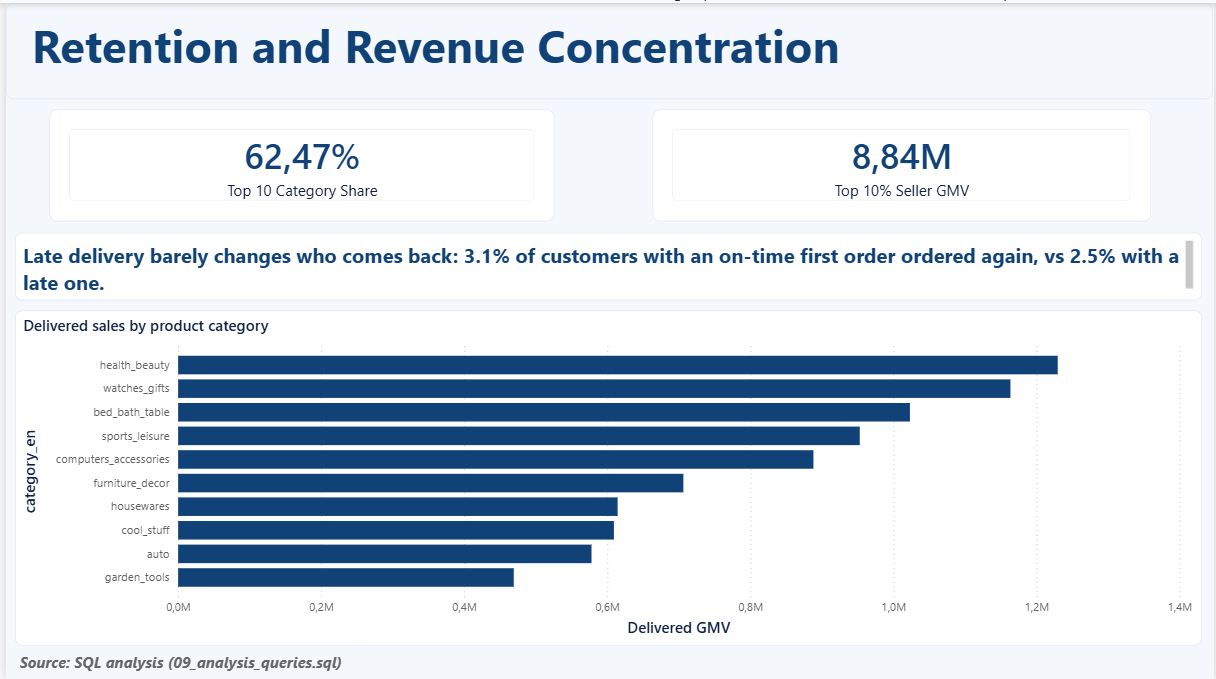

Layout of this report page (visuals, bound fields, positions):
{"tool":"powerbi","page":{"name":"Retention & Concentration","canvas":[1280,720],"ordinal":2},"visuals":[{"type":"clusteredBarChart","title":"Delivered sales by product category","fields":{"Y":["_Measures.Delivered GMV"],"Category":["dw dim_product.category_en"]},"box":[10,326.7,1258.3,355],"z":0},{"type":"cardVisual","fields":{"Data":["_Measures.Top 10 Category Share"]},"box":[46.7,113.3,535,118.3],"z":1000},{"type":"cardVisual","fields":{"Data":["_Measures.Top 10% Seller GMV"]},"box":[685,113.3,528.3,118.3],"z":2000},{"type":"textbox","box":[10,243.3,1258.3,71.7],"z":3000},{"type":"textbox","box":[10,681.7,361.7,38.3],"z":4000},{"type":"textbox","box":[0,0,1280,101.7],"z":5000},{"type":"textbox","box":[21.7,6.7,1180,88.3],"z":6000}]}

Visuals, with their boxes in screenshot pixels (x1, y1, x2, y2), scaled from the page's 1280x720 canvas onto the 1216x679 screenshot:
"Delivered sales by product category" clusteredBarChart: (x1=10, y1=308, x2=1205, y2=643)
cardVisual - _Measures.Top 10 Category Share: (x1=44, y1=107, x2=553, y2=218)
cardVisual - _Measures.Top 10% Seller GMV: (x1=651, y1=107, x2=1153, y2=218)
textbox: (x1=10, y1=229, x2=1205, y2=297)
textbox: (x1=10, y1=643, x2=353, y2=678)
textbox: (x1=0, y1=0, x2=1215, y2=96)
textbox: (x1=21, y1=6, x2=1142, y2=90)
